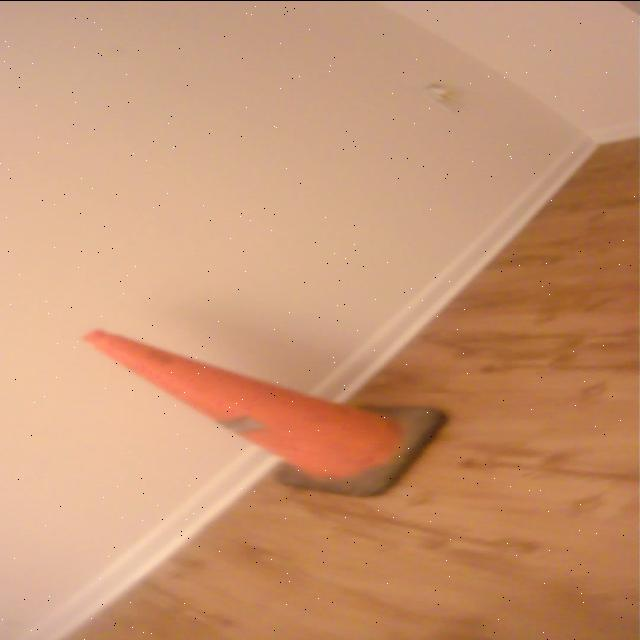traffic cone: (76, 325, 458, 501)
